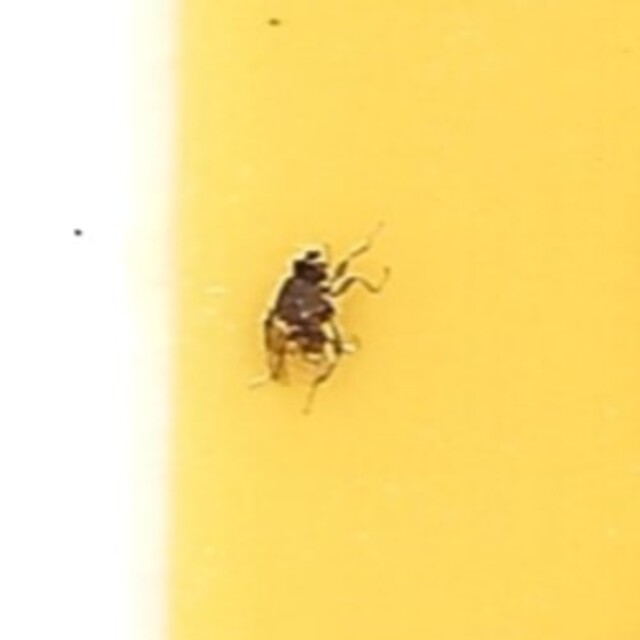Brachycera: (254, 220, 386, 420)
